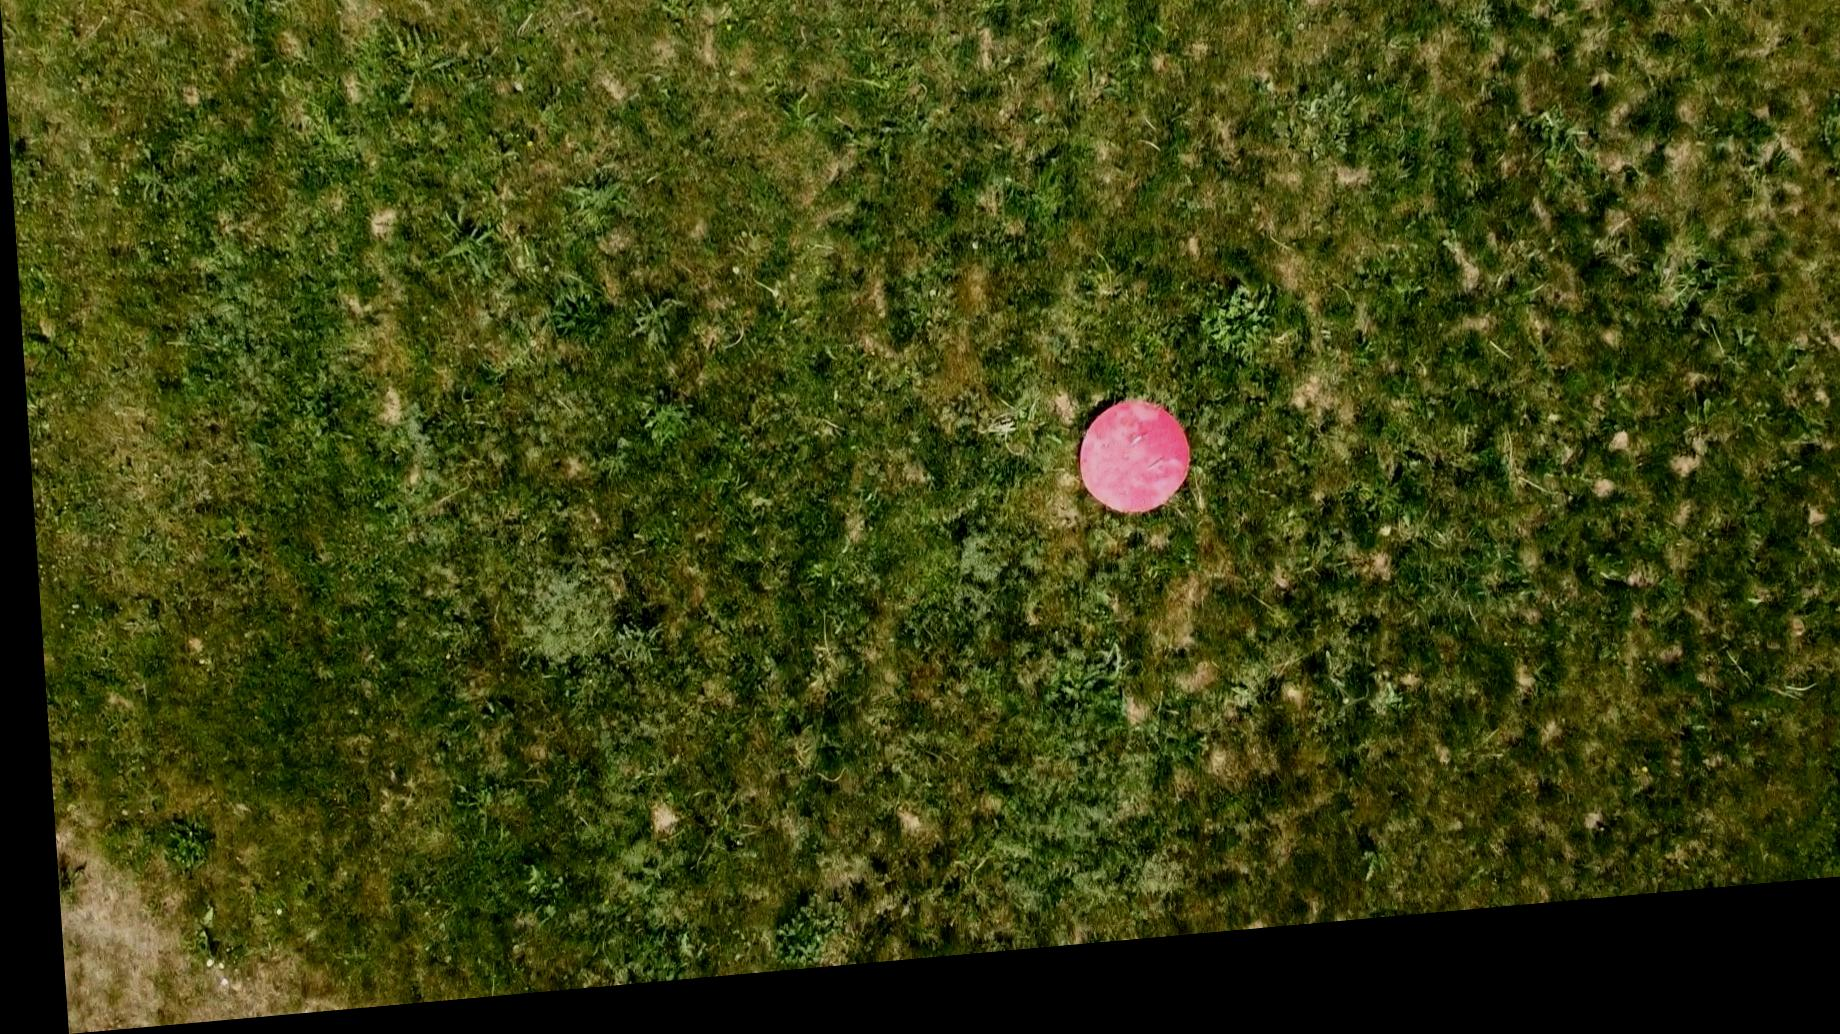Red: (1064, 411, 1189, 542)
